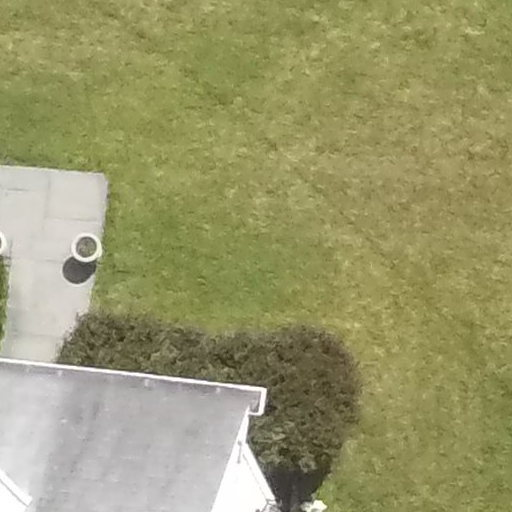container: (67, 230, 108, 267)
pot: (68, 230, 110, 270)
